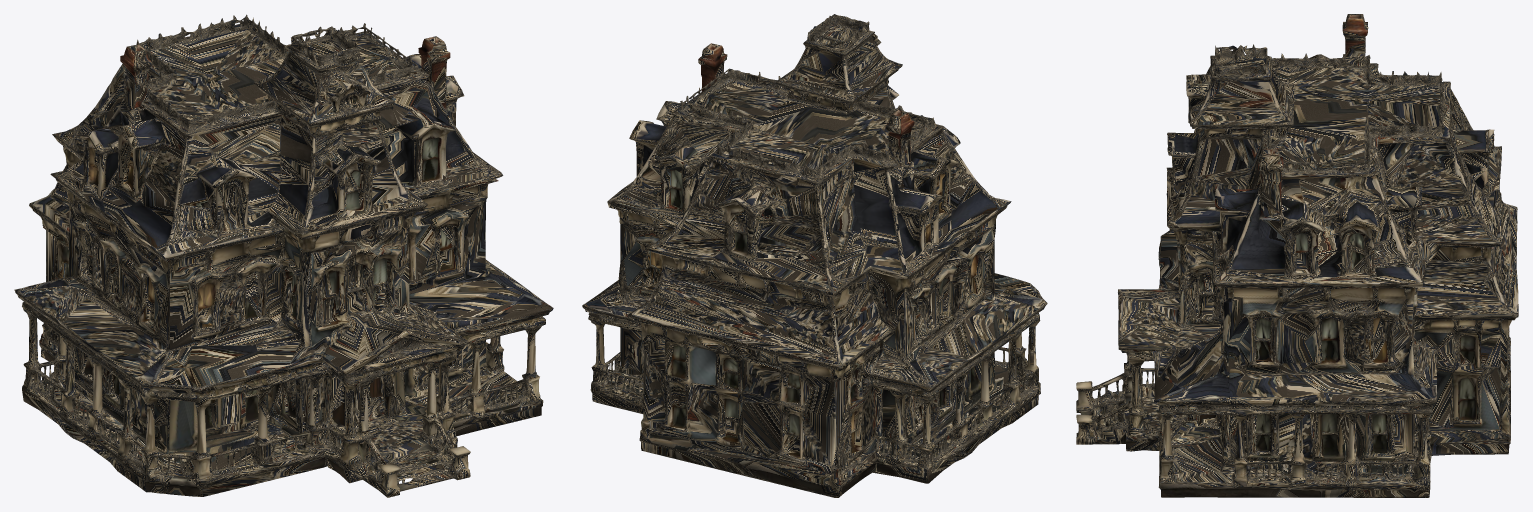
File: semantic-primitive-v01.fbx
3 views of the same model, side by side, from view 1: azimuth 30°, elevation 25°; view 2: azimuth 150°, elevation 25°; view 3: azimuth 270°, elevation 25° (orthographic). The views are drawn at different scales.
Visible parts, largest first — view 1: CF_PROXY_BUILDING_GENERATED; view 2: CF_PROXY_BUILDING_GENERATED; view 3: CF_PROXY_BUILDING_GENERATED.
Part boxes in pixels (<box>): CF_PROXY_BUILDING_GENERATED: <box>14,14,553,497</box>; CF_PROXY_BUILDING_GENERATED: <box>582,14,1047,497</box>; CF_PROXY_BUILDING_GENERATED: <box>1076,14,1518,497</box>.
Bounding box in the file's own units: 1770 × 1692 × 1850.
